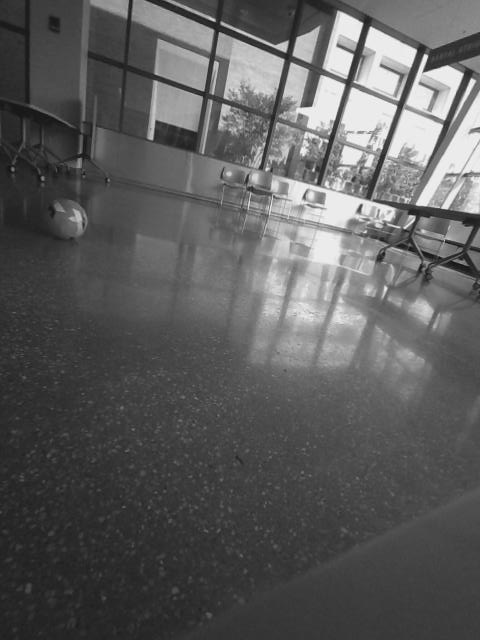ball: (38, 192, 93, 244)
